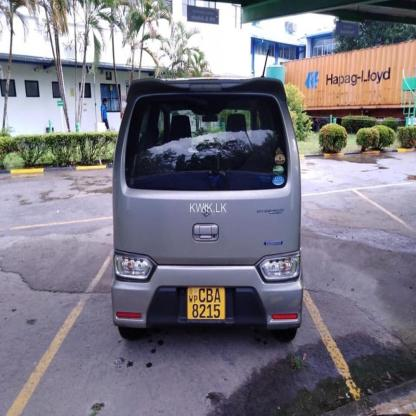car back: (110, 74, 304, 342)
number plate: (185, 282, 225, 322)
